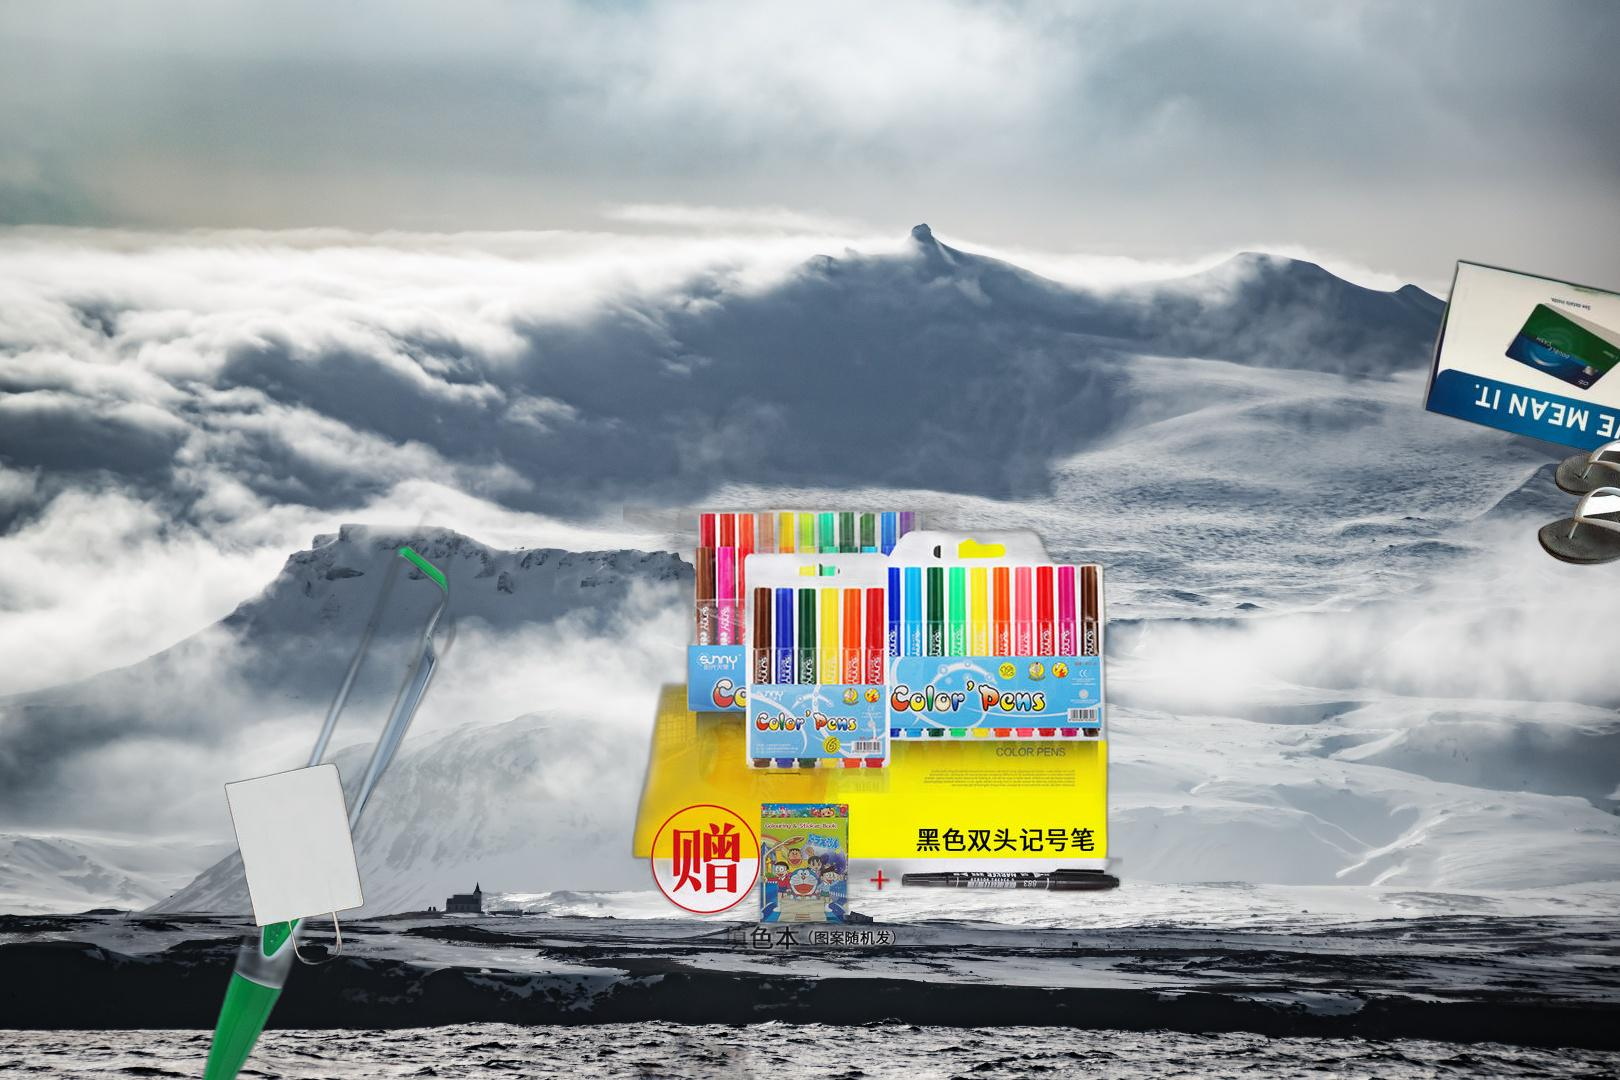battery: (518, 993, 793, 1080), (1487, 1072, 1620, 1080)
metal-cans: (694, 716, 843, 811)
paper: (1417, 257, 1620, 498)
paper-bag: (222, 705, 366, 968)
penholder: (623, 454, 1123, 953), (190, 505, 466, 1080)
shoes: (1534, 436, 1620, 568)
